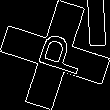P_W: (25, 29, 85, 81)
